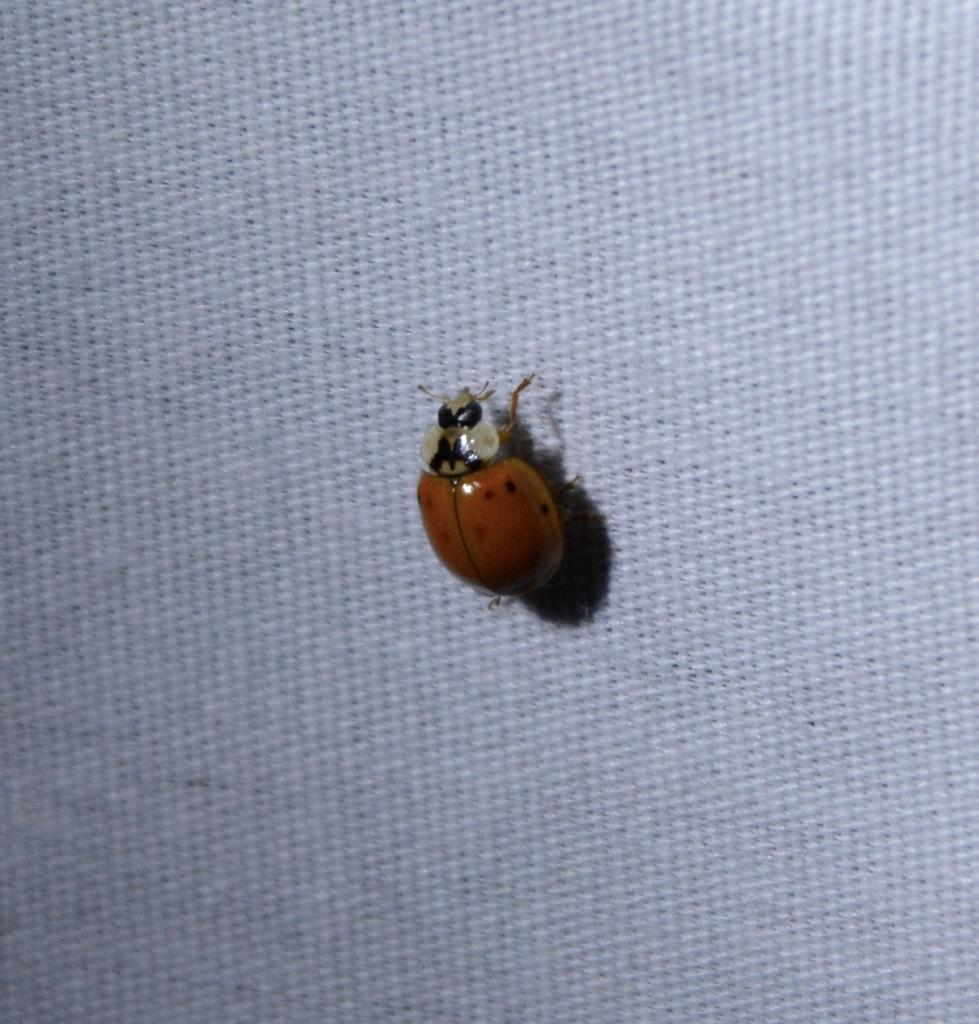ladybug: (416, 369, 589, 614)
